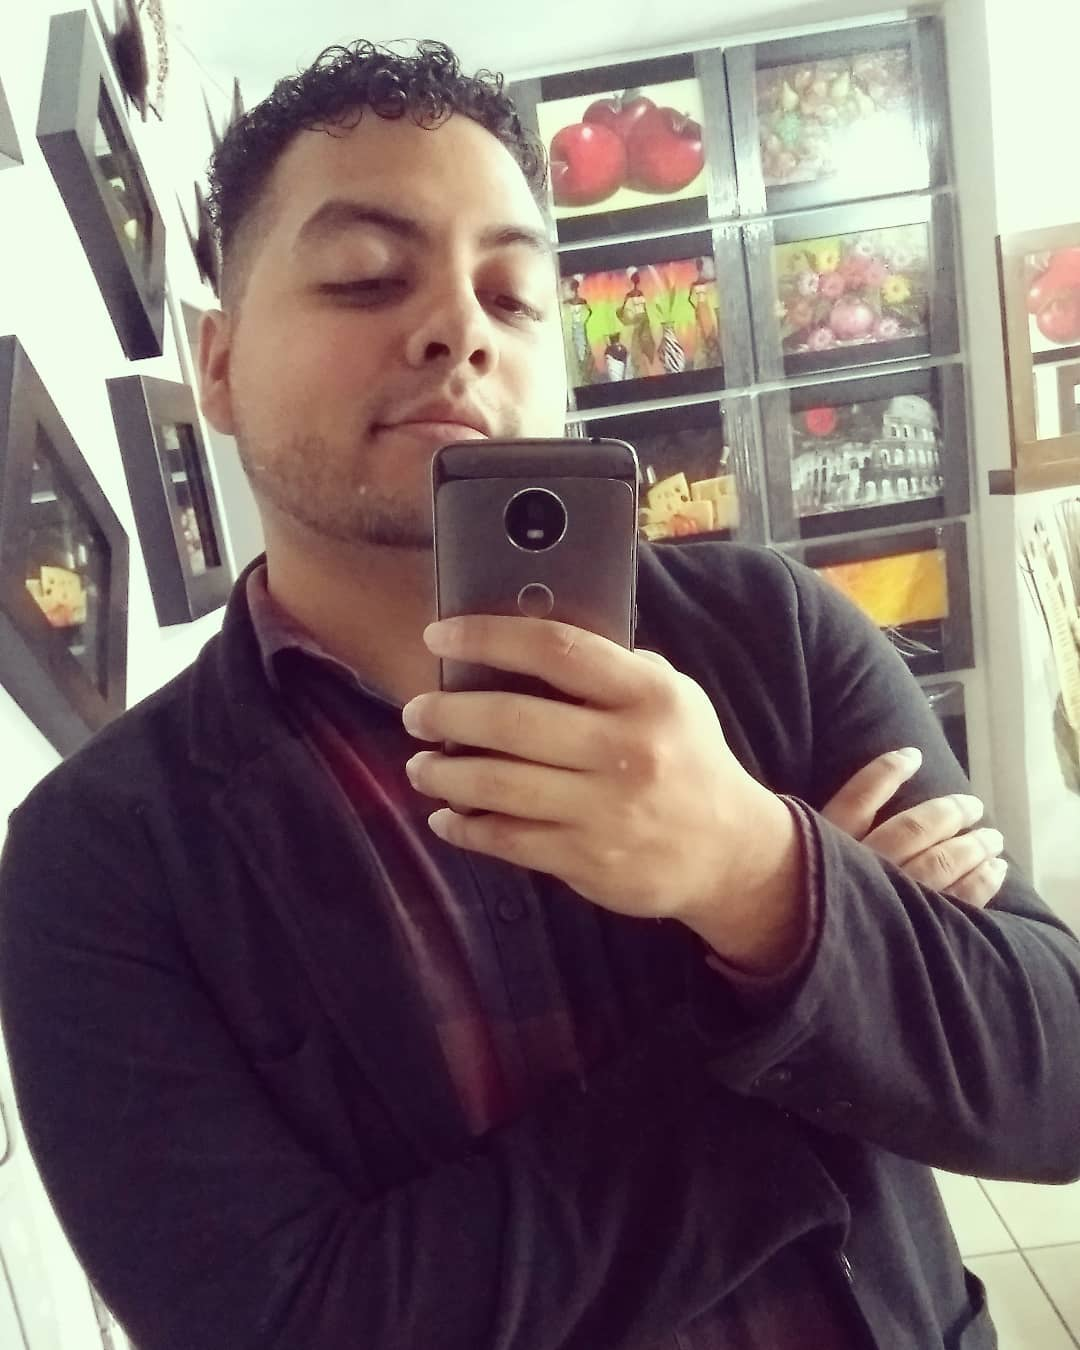Yoshi: (86, 30, 959, 1100)
